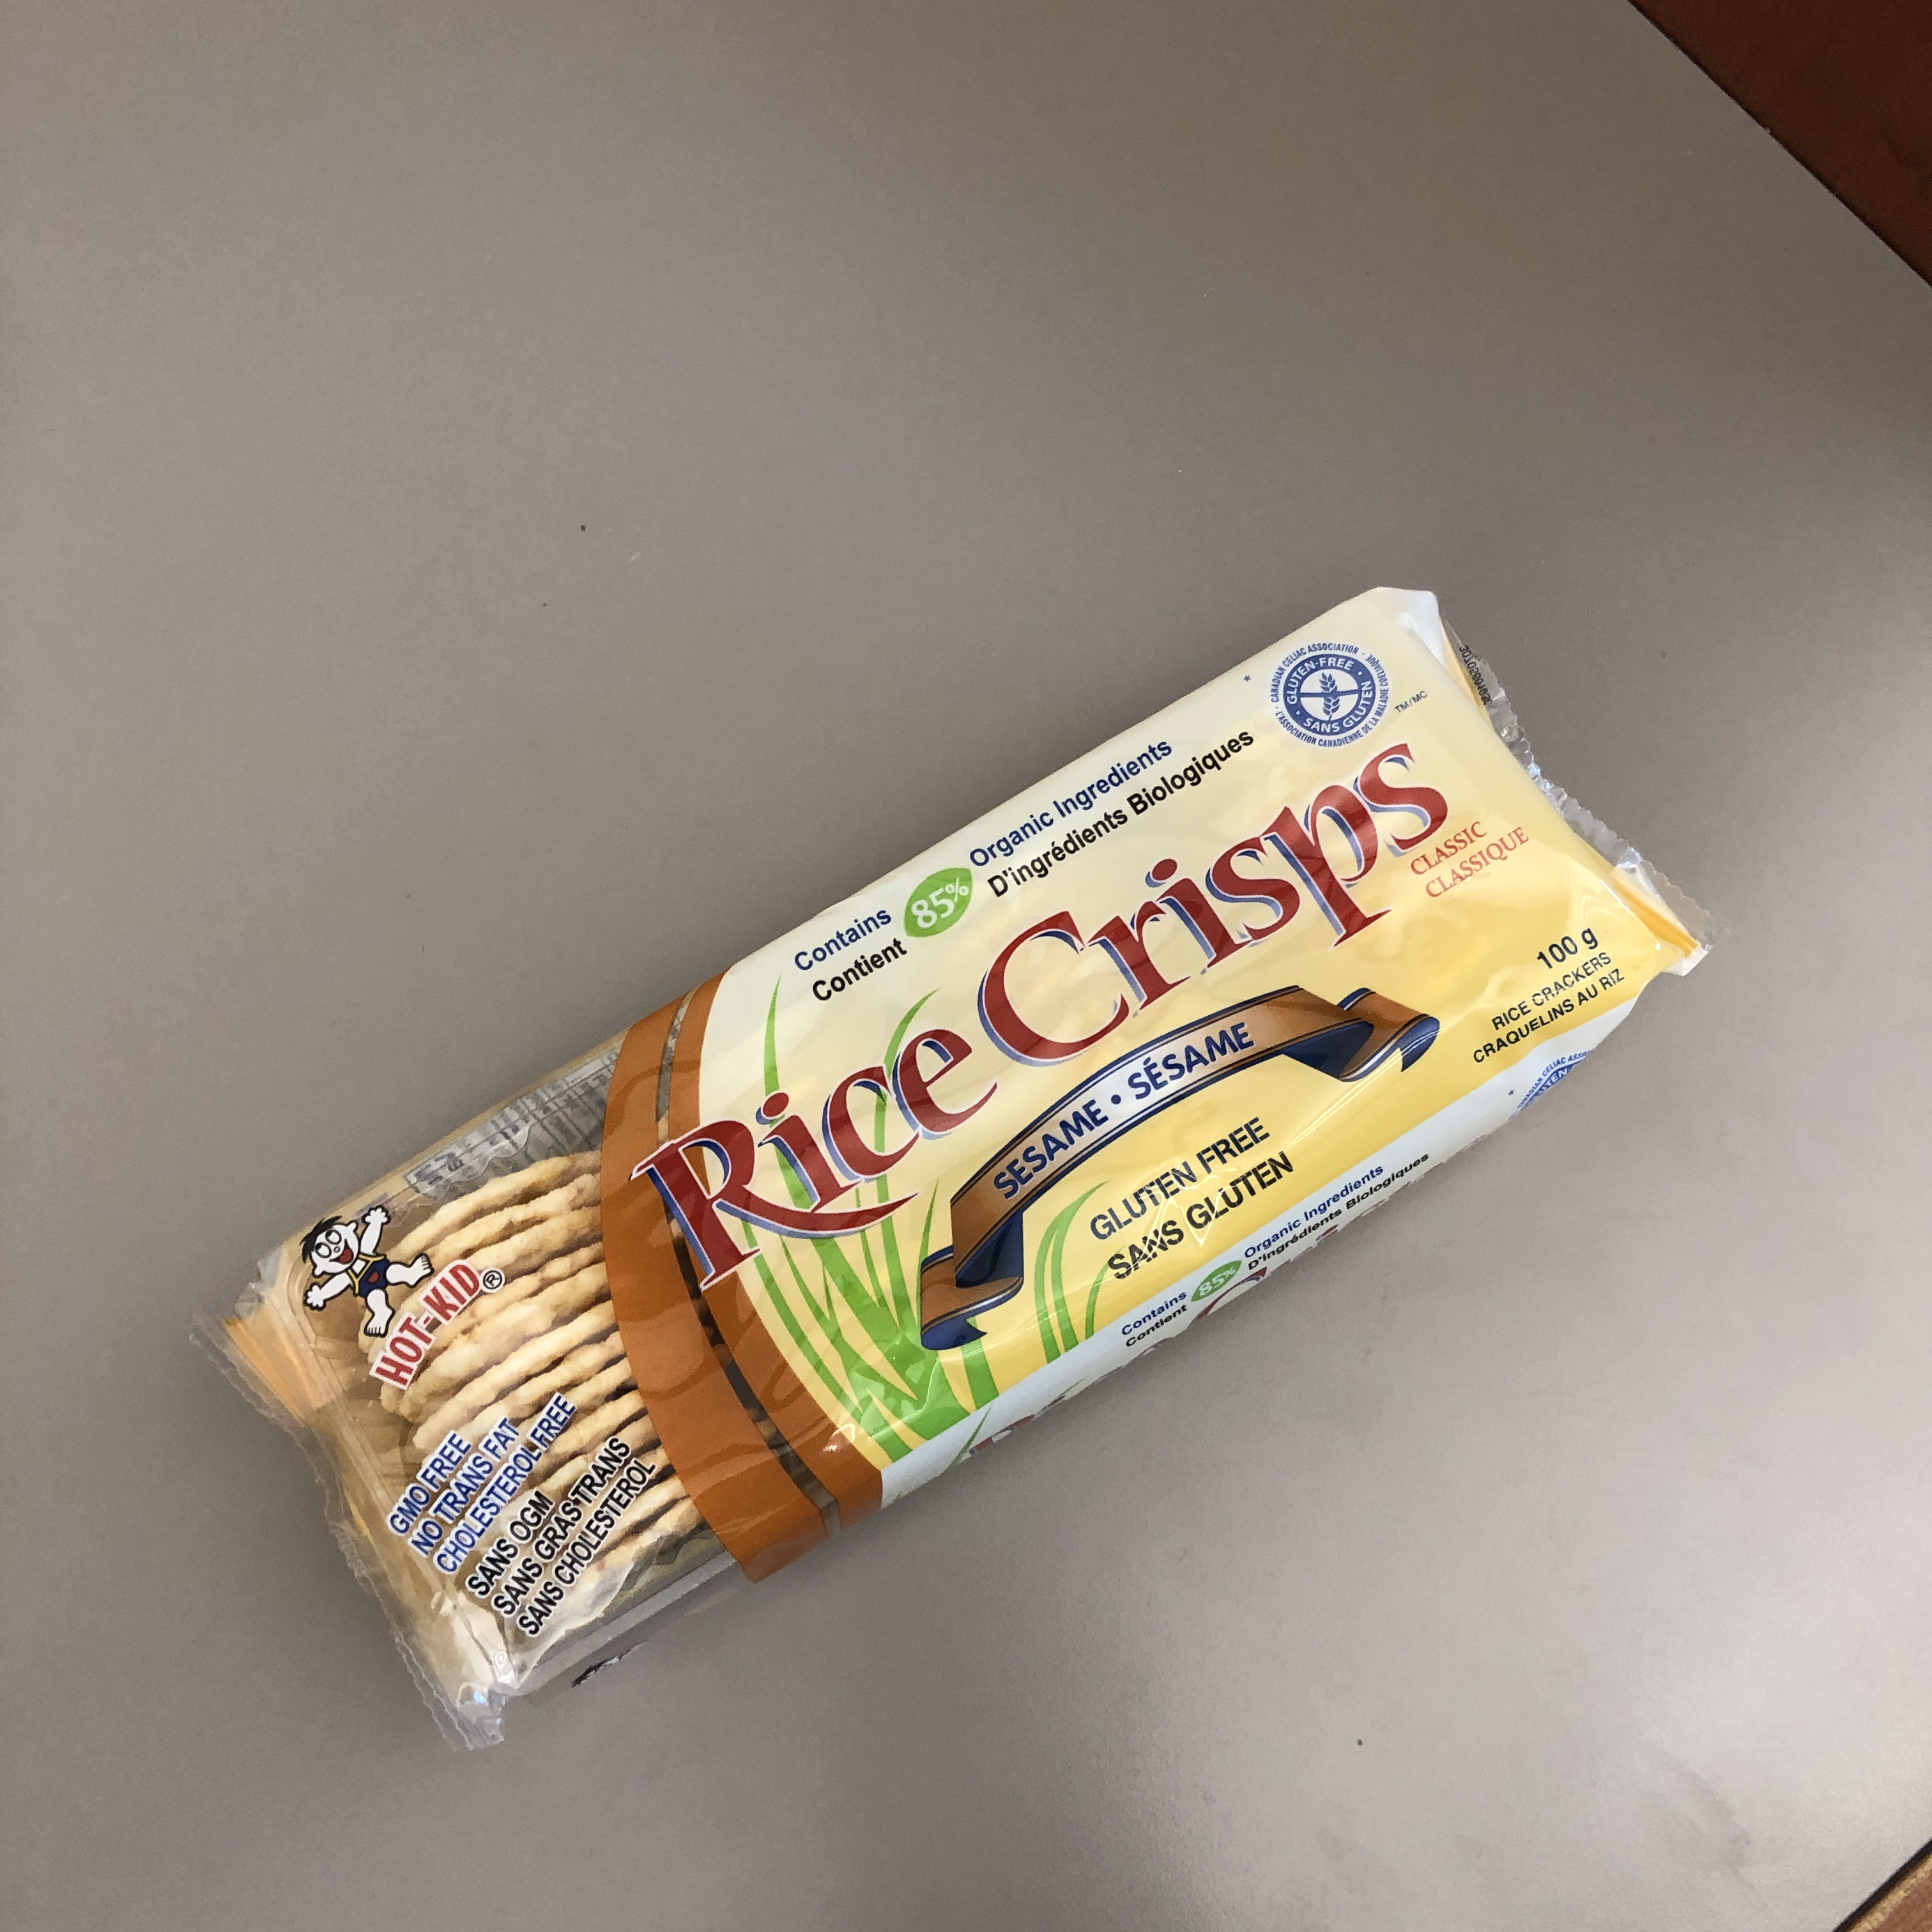hot_kid_rice_crisps_sesame: (725, 445, 1529, 1632)
